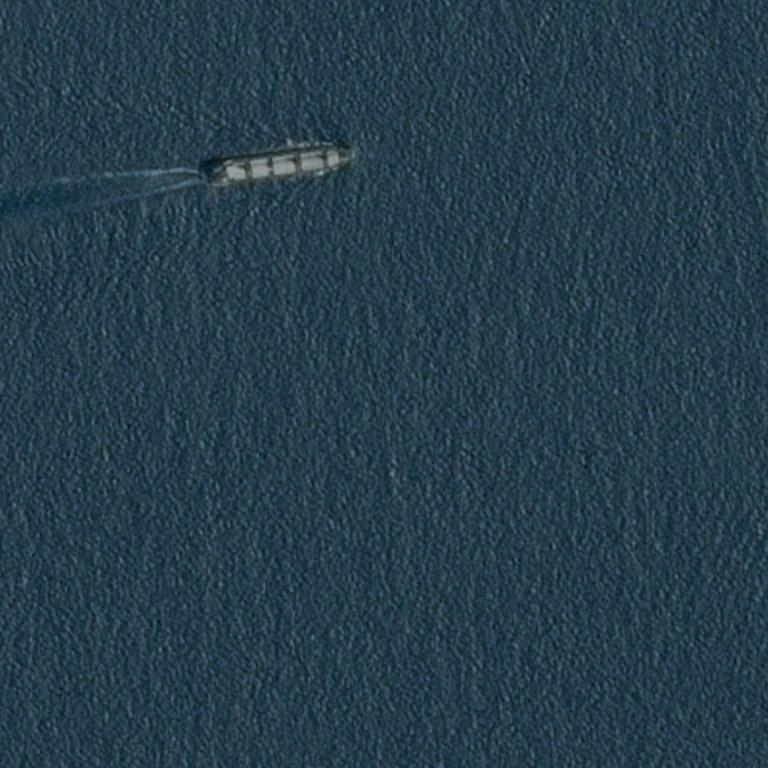ship: (244, 129, 319, 186), (346, 149, 353, 158), (56, 9, 64, 15), (212, 181, 217, 188)
